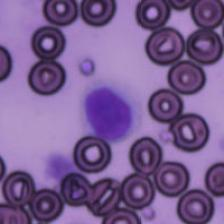L: (82, 82, 141, 144)
